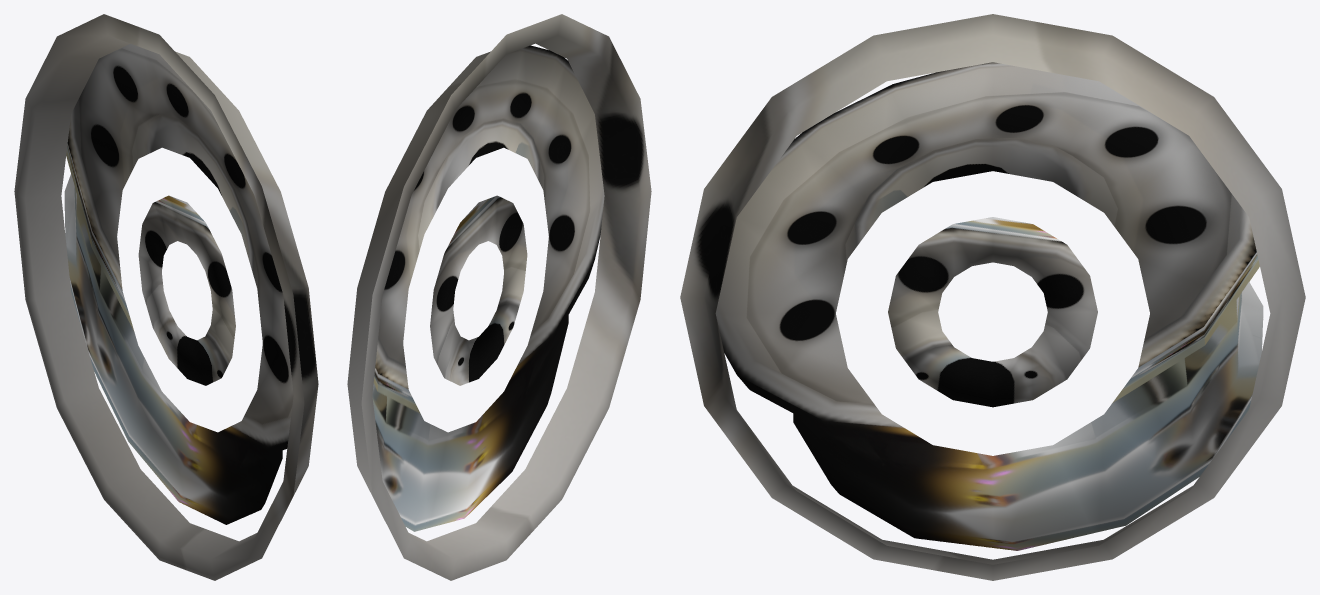
Rendered from Rim01.fbx.
The picture shows the model from 3 angles, left to right: view 1: azimuth 30°, elevation 25°; view 2: azimuth 150°, elevation 25°; view 3: azimuth 270°, elevation 25°; orthographic projection. The views are drawn at different scales.
Parts seen in each view (by area): view 1: Rim_01; view 2: Rim_01; view 3: Rim_01.
Part boxes in pixels (bbox=[...]): Rim_01: bbox=[14, 14, 318, 580]; Rim_01: bbox=[347, 14, 651, 580]; Rim_01: bbox=[680, 14, 1305, 580].
Size of the model in its own units: 1.2 by 10.68 by 10.68.
